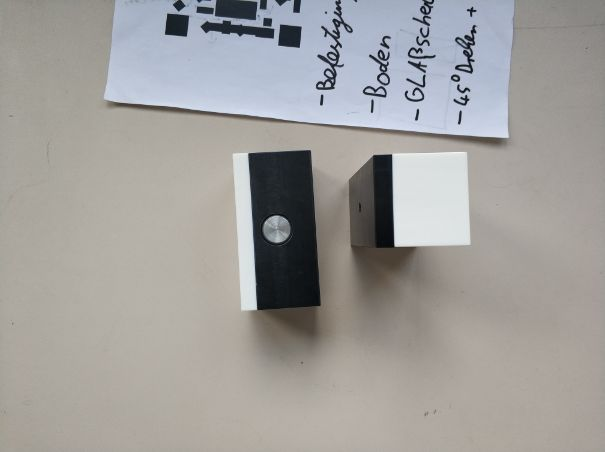white+black+silver: (231, 147, 325, 312)
